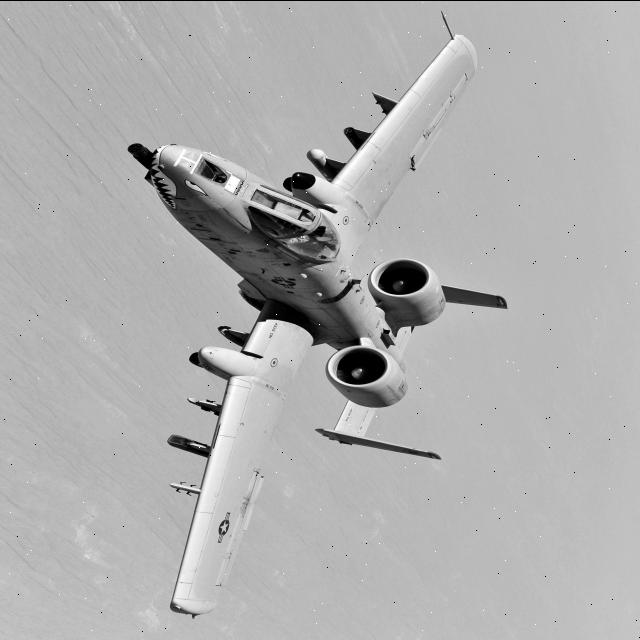A10: (92, 27, 542, 629)
